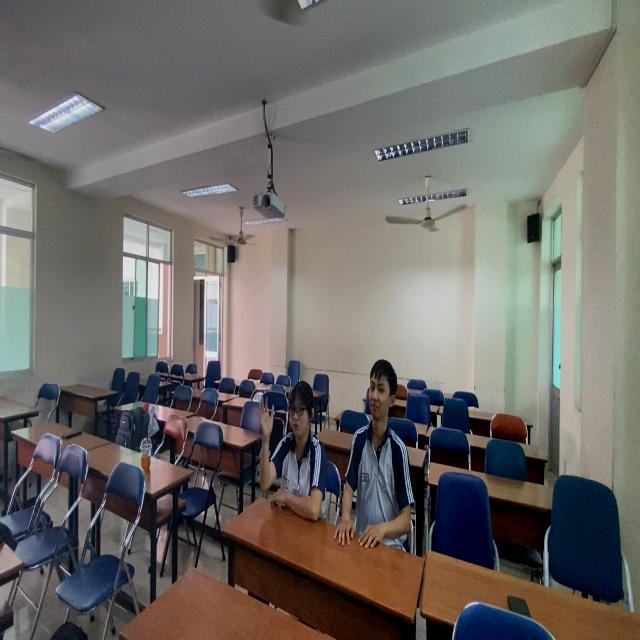raise_hand: (254, 381, 324, 531)
